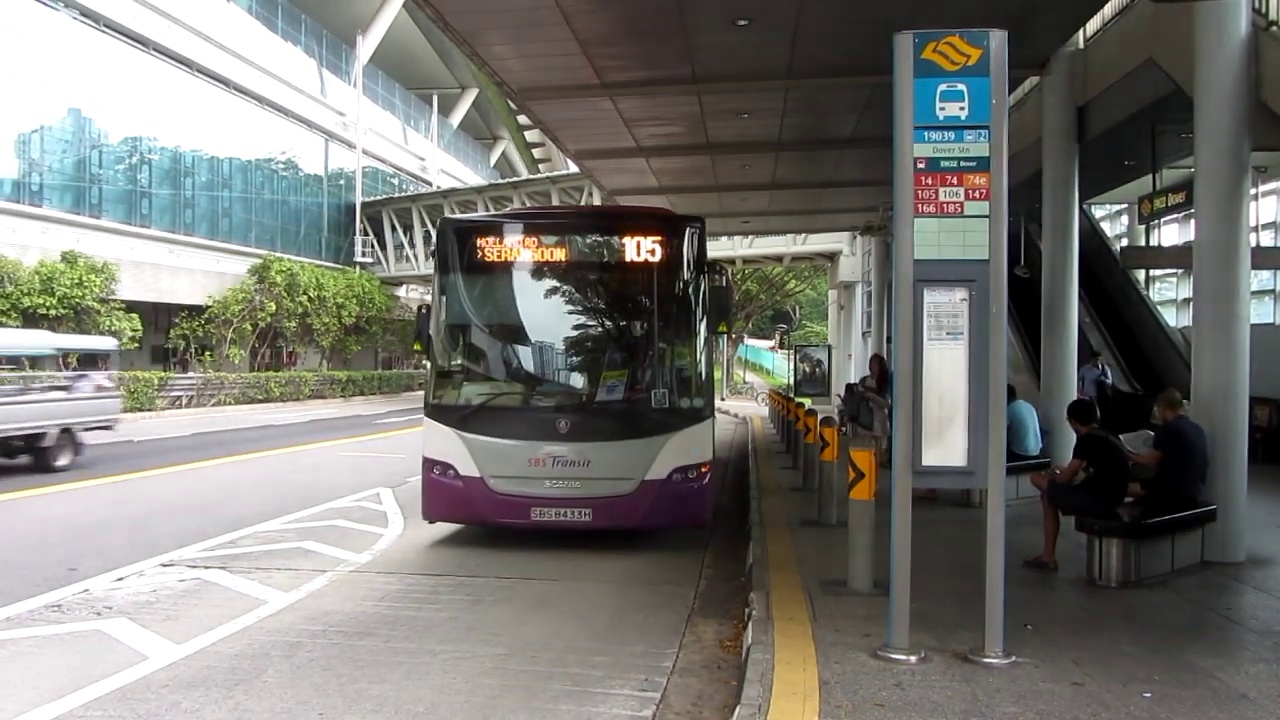bus panel: (473, 232, 665, 265)
